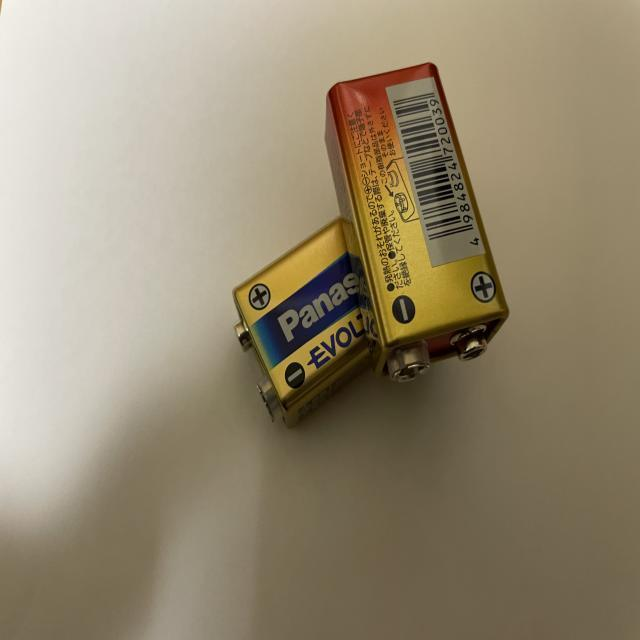9V: (323, 62, 510, 376), (230, 215, 373, 420)
